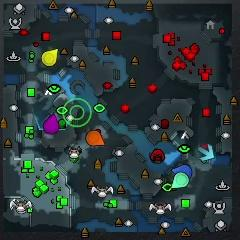p1: (172, 163, 192, 179)
p2: (171, 173, 189, 189)
p3: (44, 114, 60, 135)
p4: (42, 49, 58, 66)
p5: (86, 131, 105, 145)
x3: (198, 145, 215, 162)
